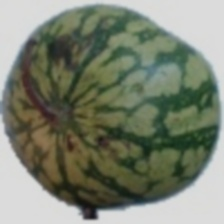watermelon: (54, 0, 202, 192)
